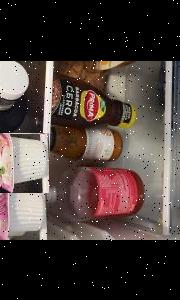Queso: (0, 132, 49, 192), (0, 191, 47, 239)
